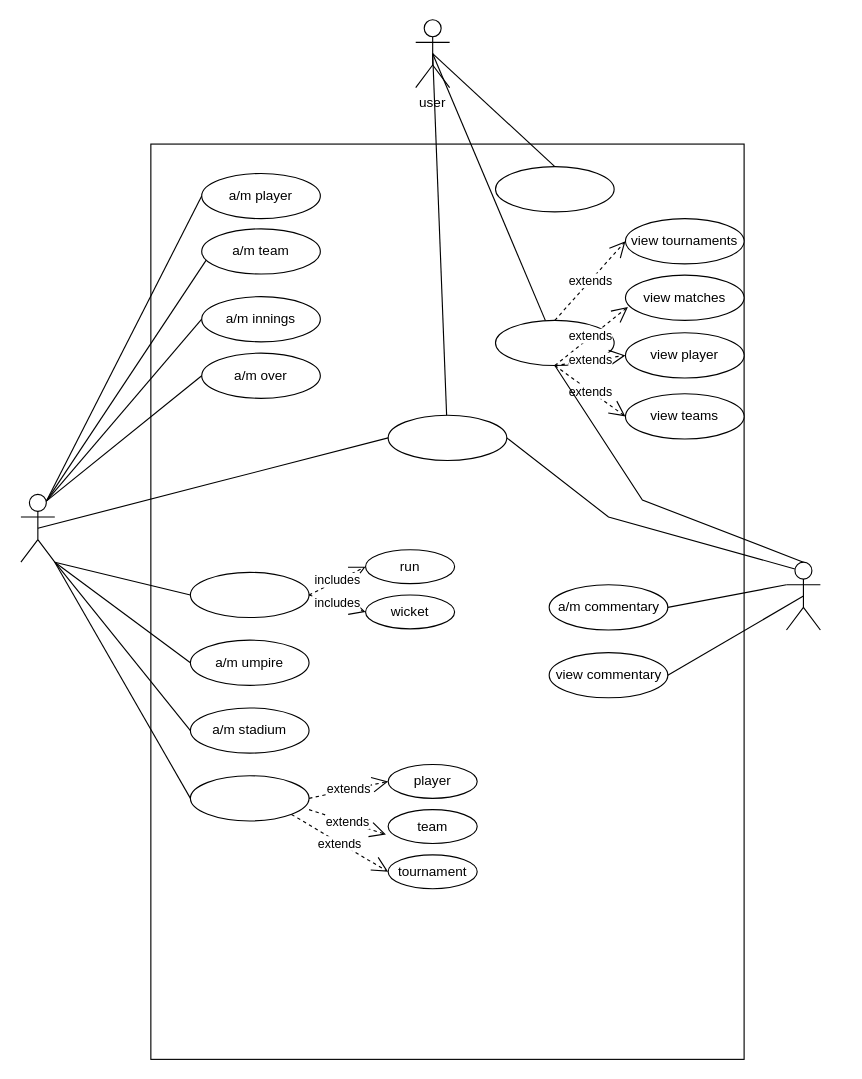
Image size: 862x1079. Some labels were removed from this diagram. The centre of each missing label's shape, as x and y in pixels:
"a/m ball" goes at (x=249, y=594).
"a/m stats" goes at (x=249, y=798).
"admin" goes at (x=37, y=527).
"commentator" goes at (x=802, y=595).
"Login" goes at (x=447, y=437).
"view scores" goes at (x=554, y=189).
"view stats" goes at (x=554, y=342).
